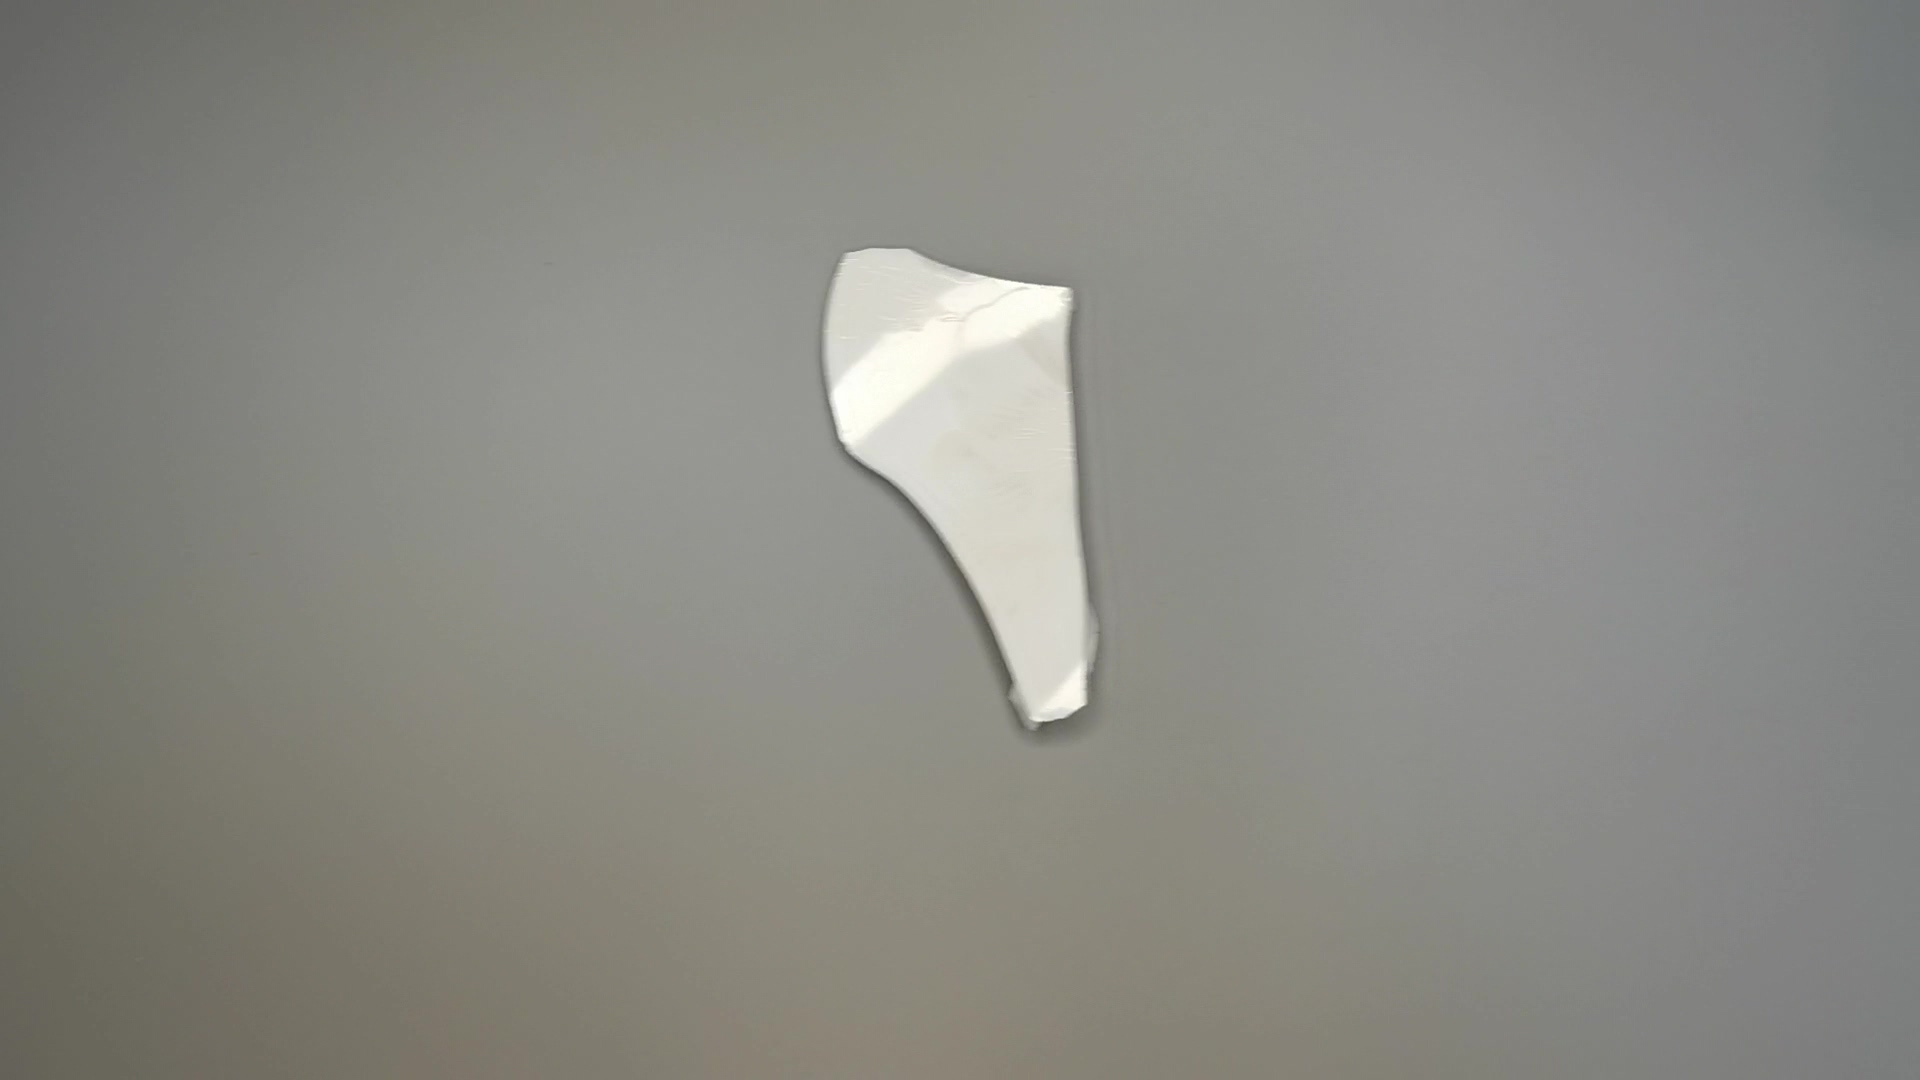ceramic: (811, 249, 1126, 742)
